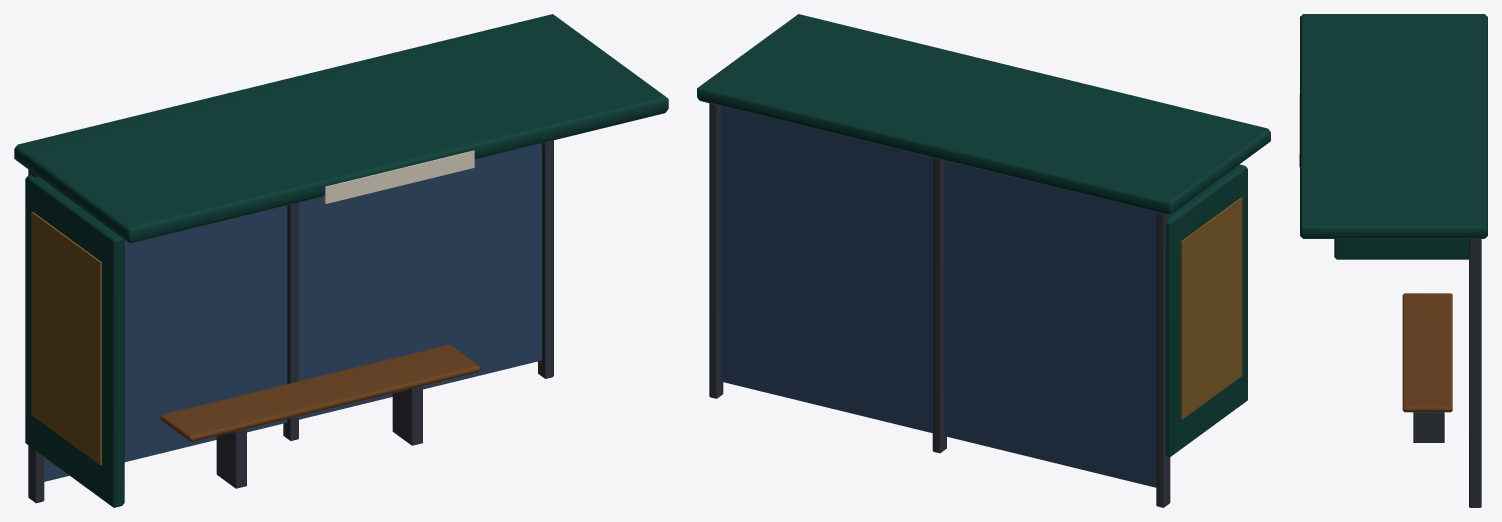
File: bus-shelter-intact.glb
The picture shows the model from 3 angles, left to right: view 1: azimuth 30°, elevation 25°; view 2: azimuth 150°, elevation 25°; view 3: azimuth 270°, elevation 25°; orthographic projection. The views are drawn at different scales.
Visible parts, largest first — view 1: bus-shelter-intact; view 2: bus-shelter-intact; view 3: bus-shelter-intact.
Boxes of the visible parts, x1,y1,x2,y2 form: bus-shelter-intact: (14,14,668,507); bus-shelter-intact: (697,14,1270,507); bus-shelter-intact: (1299,14,1487,507).
Size of the model in its own units: 4 by 2.5 by 1.49.
Materials: 1 (1 with a texture image).
